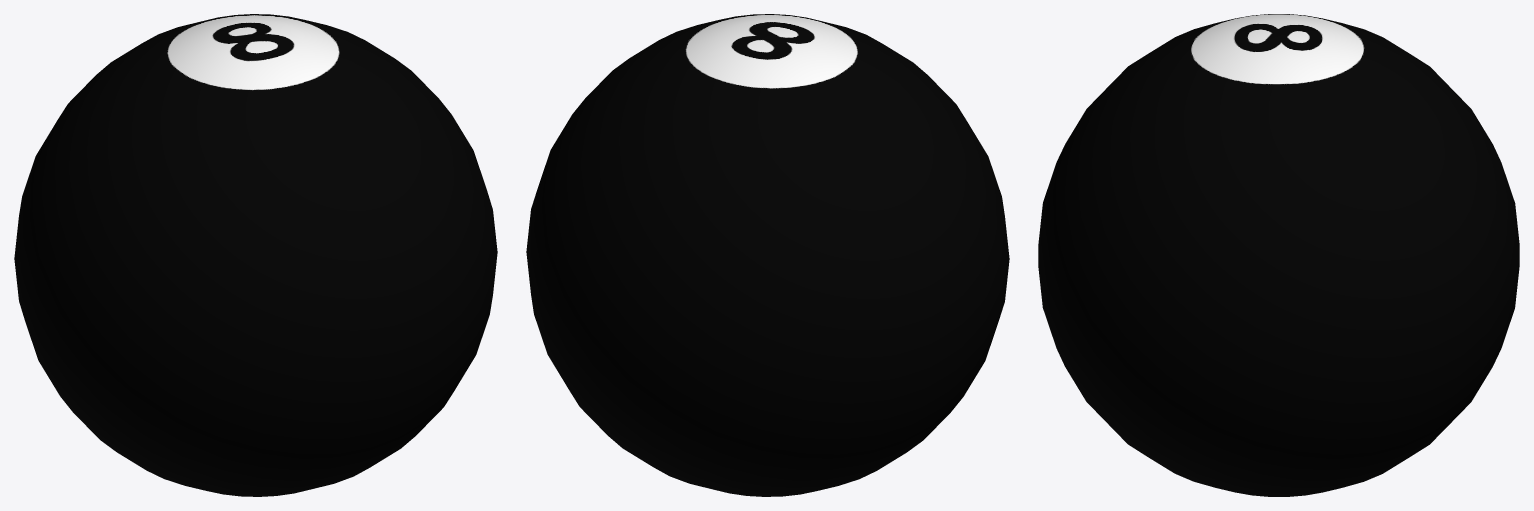
Rendered from 8Ball.glb.
3 views of the same model, side by side, from view 1: azimuth 30°, elevation 25°; view 2: azimuth 150°, elevation 25°; view 3: azimuth 270°, elevation 25° (orthographic).
Parts seen in each view (by area): view 1: SphereSolid; view 2: SphereSolid; view 3: SphereSolid.
Part boxes in pixels (x1=…): SphereSolid: x1=14, y1=14, x2=497, y2=496; SphereSolid: x1=526, y1=14, x2=1009, y2=496; SphereSolid: x1=1038, y1=14, x2=1519, y2=496.
Size of the model in its own units: 0.1991 by 0.2 by 0.1991.
1 material, 1 textured.
